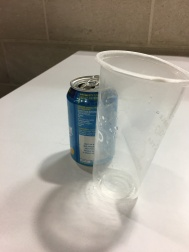can_blue: (59, 69, 123, 176)
